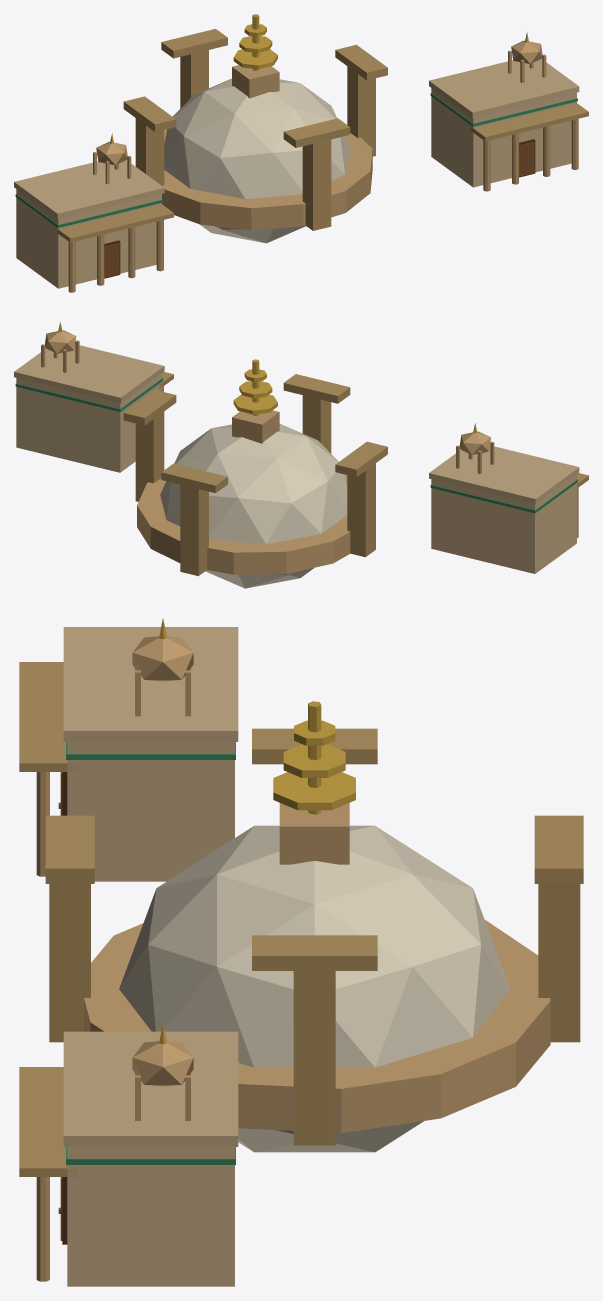
The model's file is cat_court_broken.glb.
The picture shows the model from 3 angles, top to bottom: view 1: azimuth 30°, elevation 25°; view 2: azimuth 150°, elevation 25°; view 3: azimuth 270°, elevation 25°; orthographic projection. The views are drawn at different scales.
Visible parts, largest first — view 1: cat_court_piece1, cat_court_piece2, cat_court_piece13, cat_court_piece6, cat_court_piece9, cat_court_piece7, cat_court_piece4, cat_court_piece12, cat_court_piece8, cat_court_piece3, cat_court_piece0, cat_court_piece10 (+1 smaller); view 2: cat_court_piece2, cat_court_piece3, cat_court_piece1, cat_court_piece4, cat_court_piece8, cat_court_piece11, cat_court_piece13, cat_court_piece7, cat_court_piece5, cat_court_piece12, cat_court_piece9, cat_court_piece6; view 3: cat_court_piece2, cat_court_piece1, cat_court_piece5, cat_court_piece3, cat_court_piece13, cat_court_piece7, cat_court_piece0, cat_court_piece12, cat_court_piece6, cat_court_piece8, cat_court_piece4, cat_court_piece9.
Boxes of the visible parts, <box> form: cat_court_piece1: <box>14,103,176,292</box>; cat_court_piece2: <box>369,32,588,191</box>; cat_court_piece13: <box>197,14,336,148</box>; cat_court_piece6: <box>185,167,337,234</box>; cat_court_piece9: <box>191,126,351,234</box>; cat_court_piece7: <box>311,44,482,180</box>; cat_court_piece4: <box>16,96,184,274</box>; cat_court_piece12: <box>257,118,350,202</box>; cat_court_piece8: <box>147,79,231,221</box>; cat_court_piece3: <box>161,29,231,142</box>; cat_court_piece0: <box>282,114,370,207</box>; cat_court_piece10: <box>193,218,295,243</box>; cat_court_piece2: <box>14,322,173,472</box>; cat_court_piece3: <box>141,454,291,588</box>; cat_court_piece1: <box>345,423,588,557</box>; cat_court_piece4: <box>324,459,557,573</box>; cat_court_piece8: <box>221,440,352,520</box>; cat_court_piece11: <box>264,503,372,580</box>; cat_court_piece13: <box>201,359,324,469</box>; cat_court_piece7: <box>67,384,201,469</box>; cat_court_piece5: <box>135,440,229,533</box>; cat_court_piece12: <box>283,374,350,444</box>; cat_court_piece9: <box>317,443,347,497</box>; cat_court_piece6: <box>312,416,347,488</box>; cat_court_piece2: <box>19,1023,238,1286</box>; cat_court_piece1: <box>19,618,337,881</box>; cat_court_piece5: <box>238,863,471,1152</box>; cat_court_piece3: <box>395,815,583,1139</box>; cat_court_piece13: <box>165,701,363,994</box>; cat_court_piece7: <box>191,919,377,1128</box>; cat_court_piece0: <box>100,889,238,1031</box>; cat_court_piece12: <box>45,815,176,1031</box>; cat_court_piece6: <box>49,877,172,1042</box>; cat_court_piece8: <box>336,742,444,880</box>; cat_court_piece4: <box>184,728,377,869</box>; cat_court_piece9: <box>82,906,149,1031</box>.
Size of the model in its own units: 6.04 by 2.41 by 2.83.
